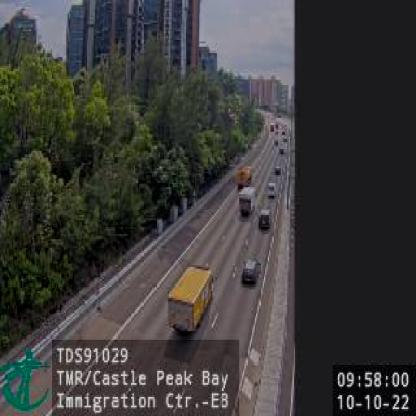Car: (241, 256, 258, 282), (258, 207, 270, 229), (268, 180, 276, 196), (273, 164, 282, 176)
Truck: (168, 265, 215, 333), (240, 188, 255, 216), (236, 165, 252, 189)
